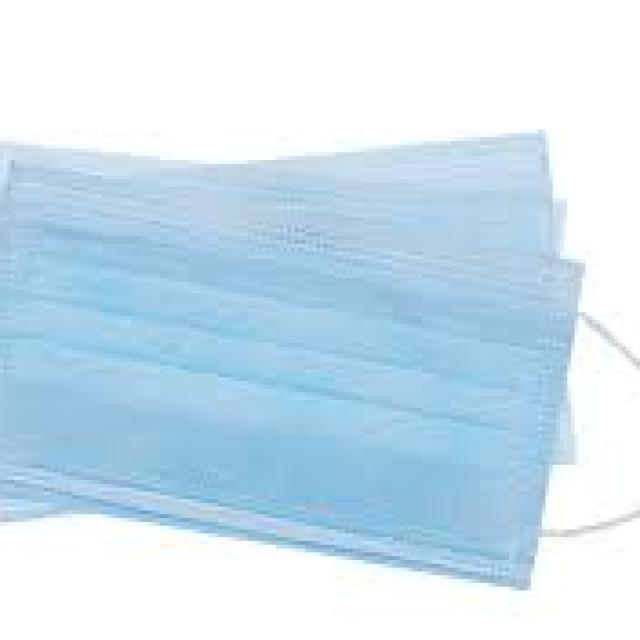organic: (5, 118, 617, 589)
